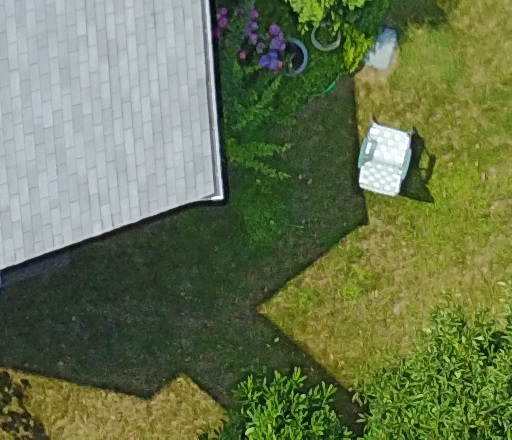flower pot: (255, 28, 312, 87), (298, 10, 355, 64)
